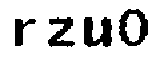0: (115, 5, 153, 54)
r: (11, 16, 38, 49)
u: (82, 13, 113, 51)
z: (44, 17, 76, 50)
